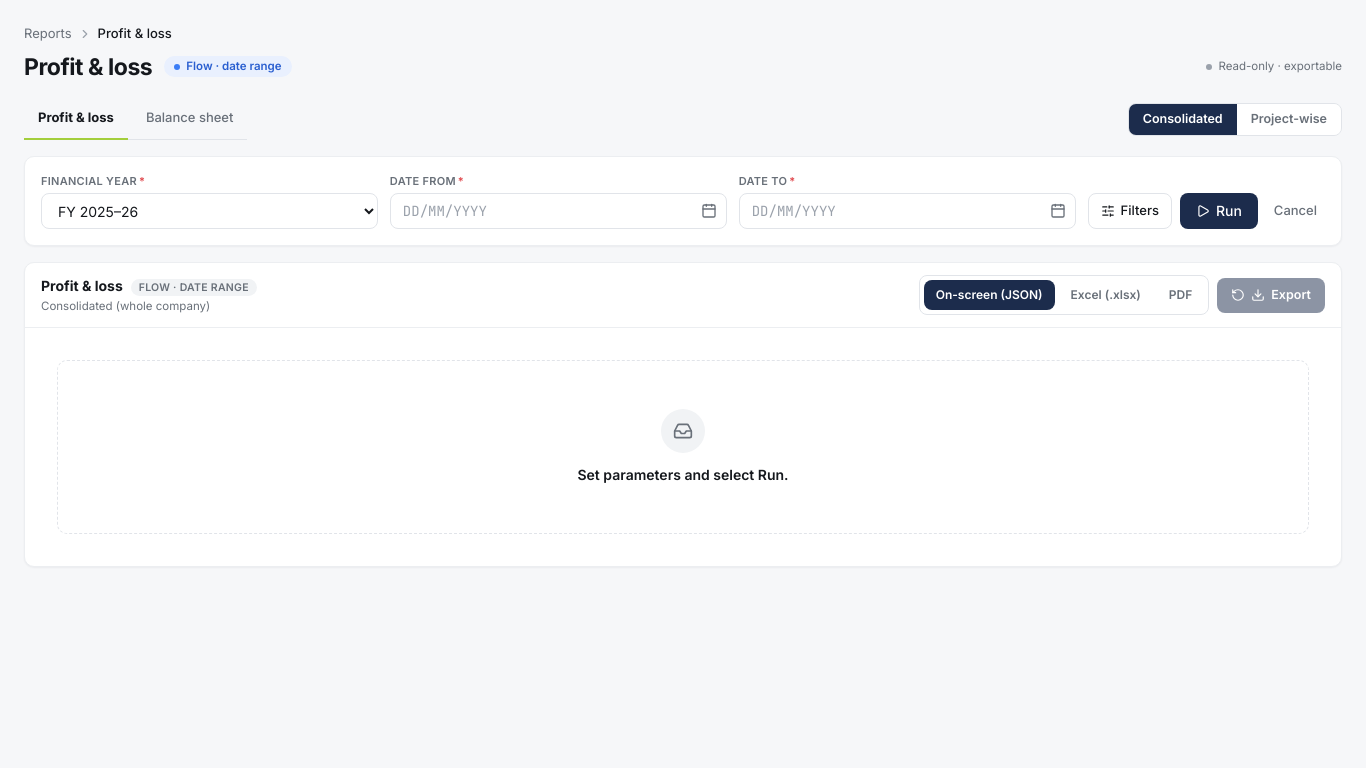
Financial statements — Balance sheet body (FR-RPT-014) › renders the balancing footer 'Balanced — Assets = Liabilities + Equity'
Click the tab with test id "statement-tab-BS" at (190, 120), box [132,100,247,140]
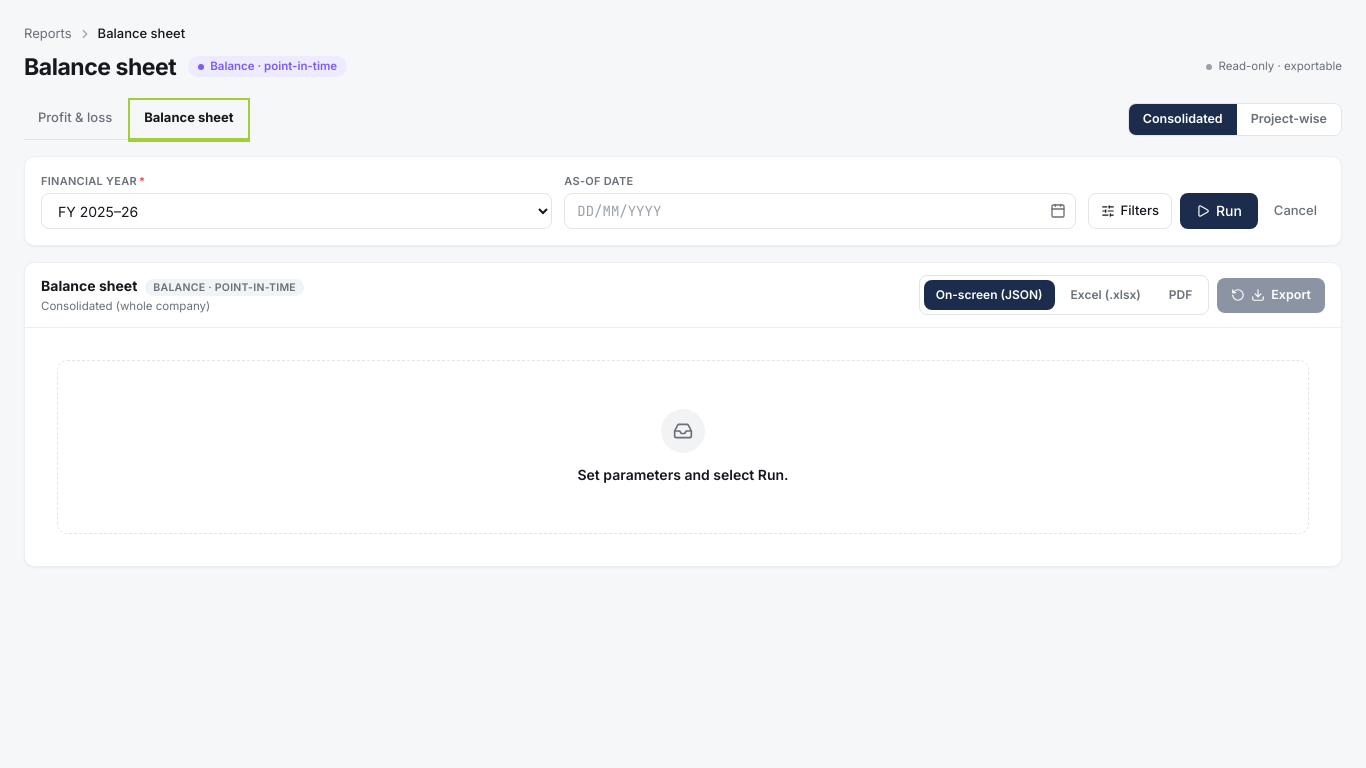
Now the element with test id "param-as-of" is shown
Type "30/06/2026" into the field at (820, 211), box [564,193,1076,229]
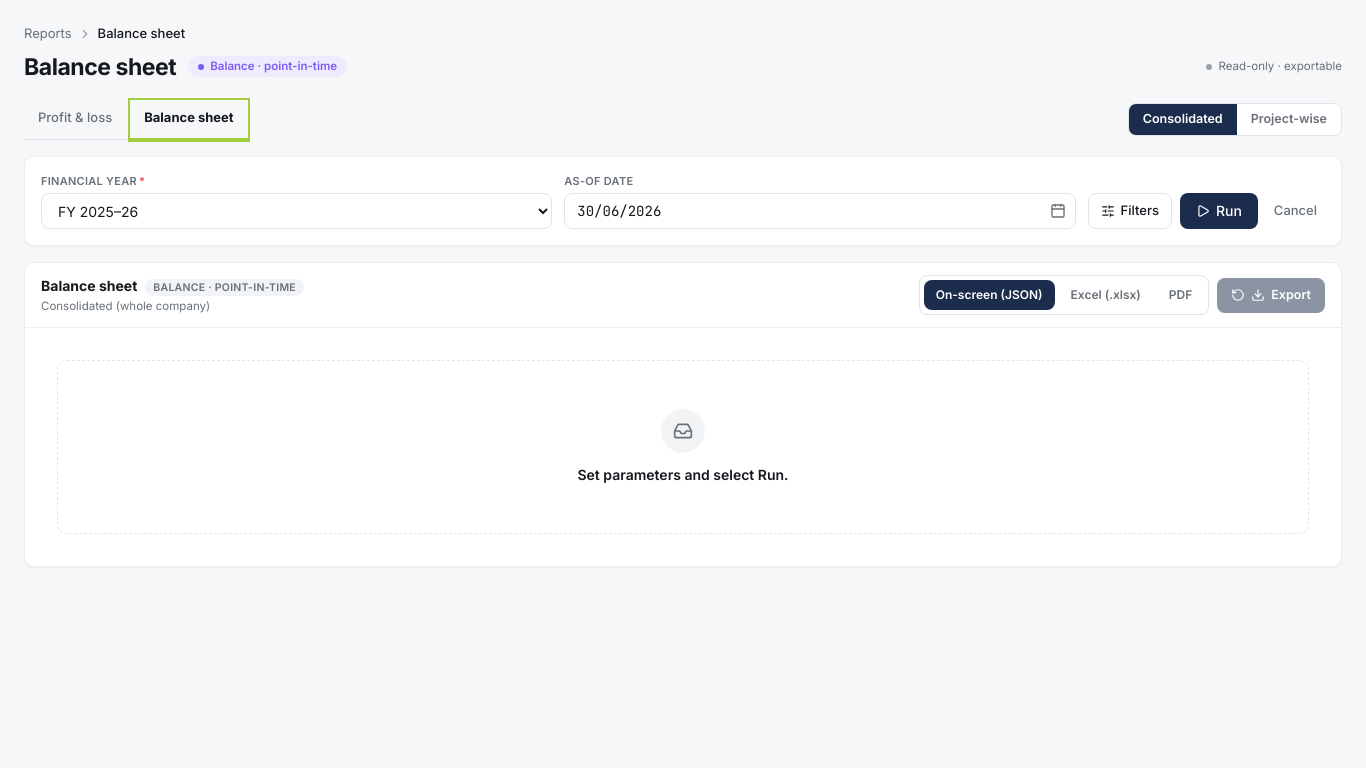
Click the button with test id "report-run" at (1219, 211), box [1180,193,1258,229]
(page scrolled)
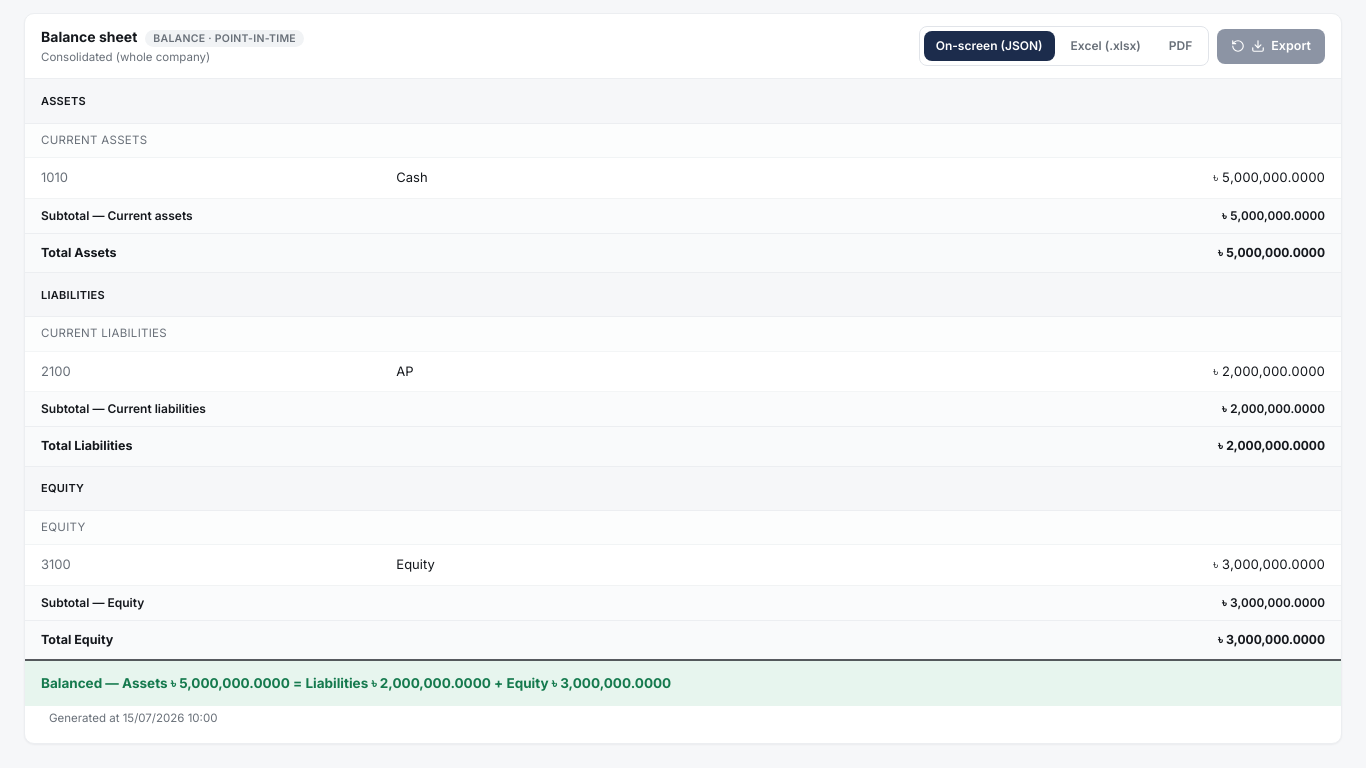
Now the element with test id "bs-statement" is shown
Now the row with test id "bs-band" shows "Balanced", box [41,675,102,691]
Now the row with test id "bs-band" shows "Assets", box [102,675,171,691]
